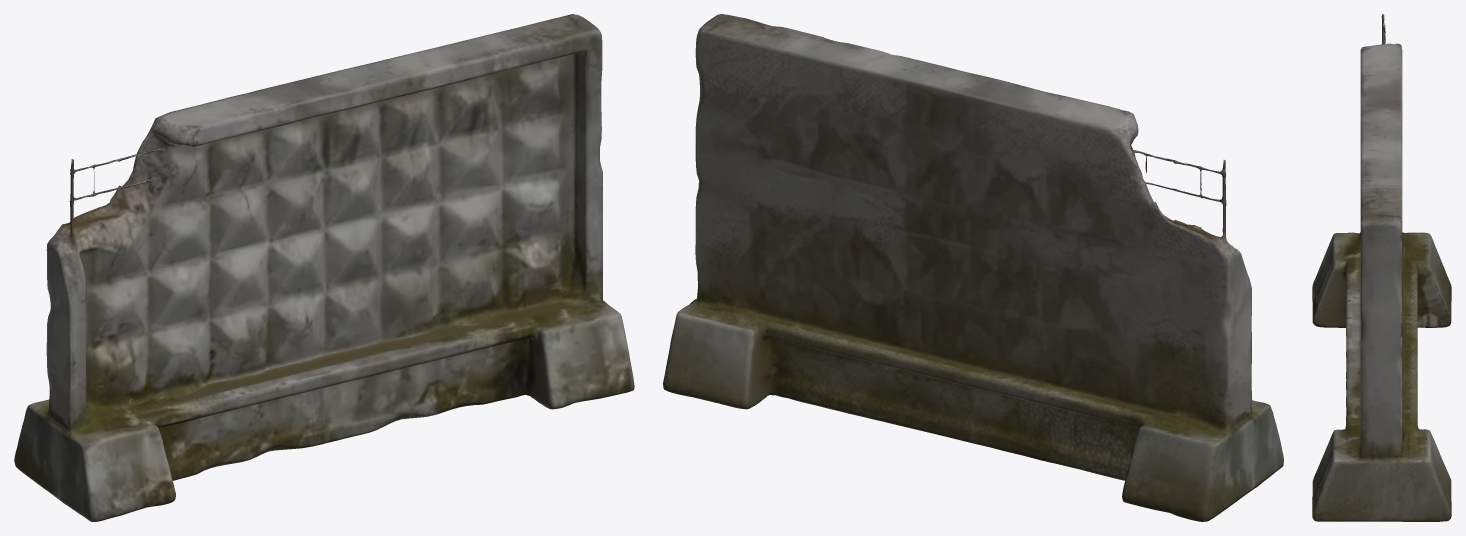
Rendered from fence_po2.glb.
3 renders of one model, left to right at view 1: azimuth 30°, elevation 25°; view 2: azimuth 150°, elevation 25°; view 3: azimuth 270°, elevation 25°, orthographic. The views are drawn at different scales.
Parts seen in each view (by area): view 1: fence_po2; view 2: fence_po2; view 3: fence_po2.
Part boxes in pixels (box(x1,y1,x2,y2)): fence_po2: box(14, 14, 634, 521); fence_po2: box(663, 14, 1283, 521); fence_po2: box(1312, 14, 1451, 521).
Size of the model in its own units: 2.8 by 1.69 by 0.7148.
1 material, 1 textured.
